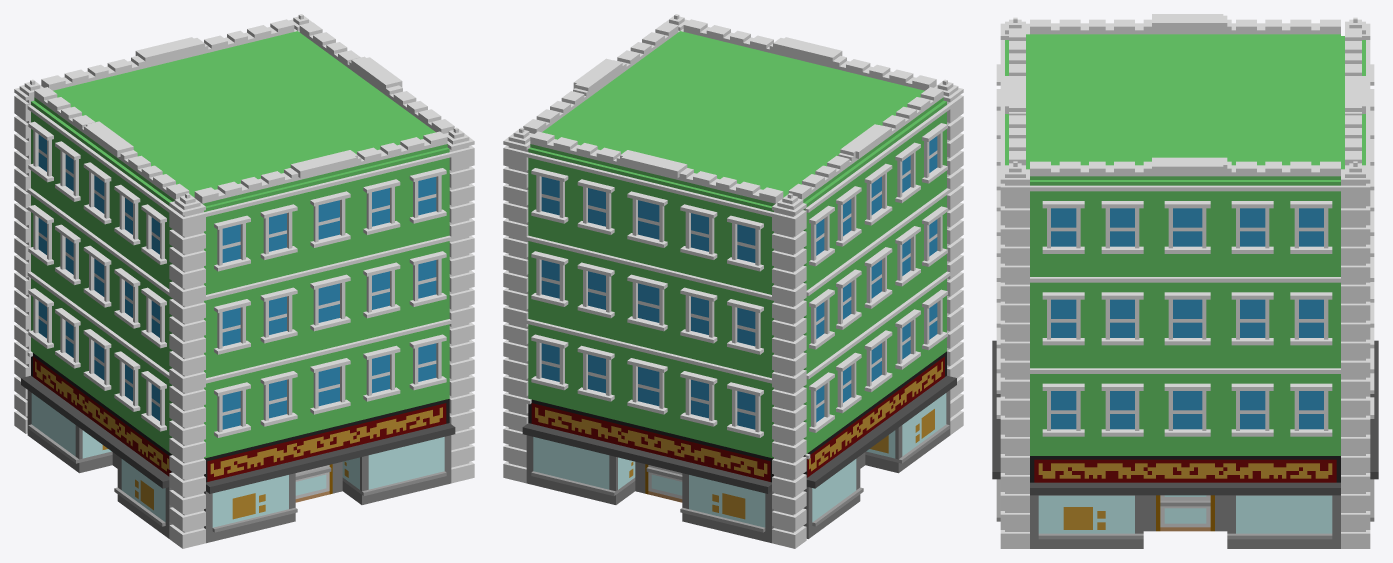
File: BLD_store01.obj
3 views of the same model, side by side, from view 1: azimuth 30°, elevation 25°; view 2: azimuth 150°, elevation 25°; view 3: azimuth 270°, elevation 25° (orthographic). The views are drawn at different scales.
Bounding box in the file's own units: 9.2 × 10 × 9.2.
Materials: 1 (1 with a texture image).
